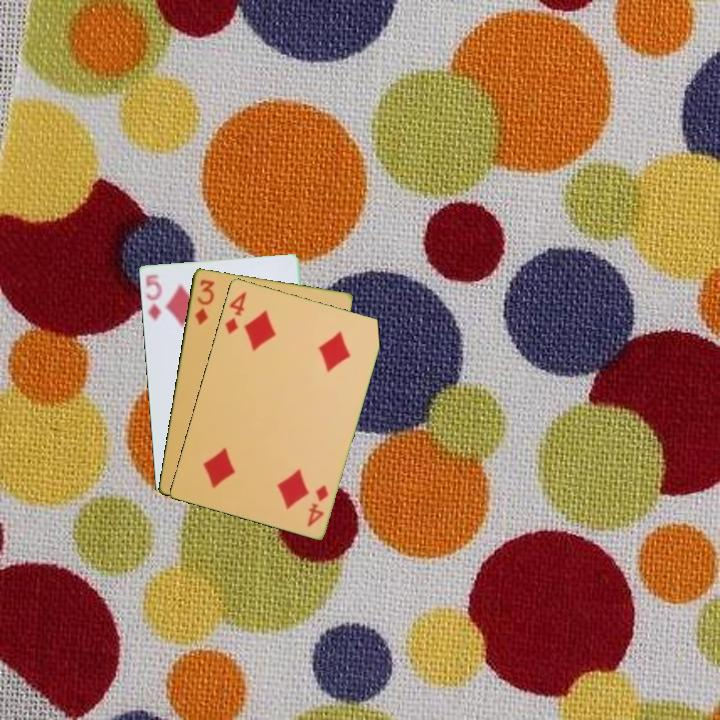3d: (191, 276, 217, 327)
4d: (221, 287, 249, 337), (303, 481, 331, 529)
5d: (142, 270, 164, 323)
